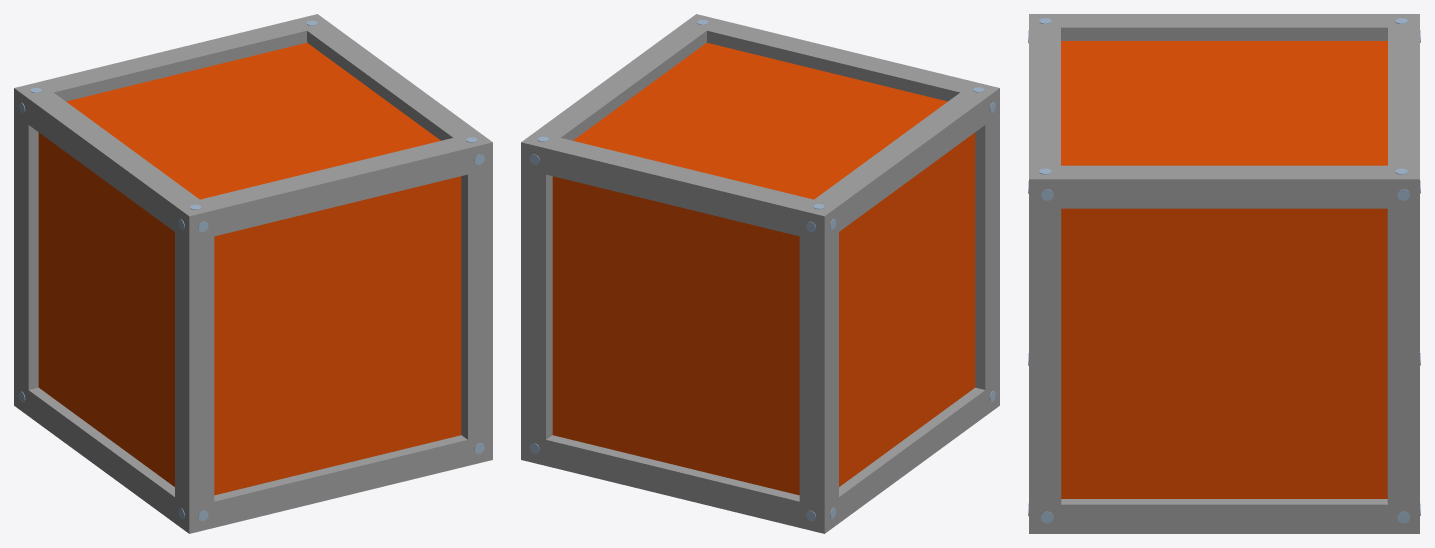
File: metalni obod kutija final.fbx
3 views of the same model, side by side, from view 1: azimuth 30°, elevation 25°; view 2: azimuth 150°, elevation 25°; view 3: azimuth 270°, elevation 25° (orthographic). The views are drawn at different scales.
Parts seen in each view (by area): view 1: Cube.232; view 2: Cube.232; view 3: Cube.232.
Boxes of the visible parts, x1,y1,x2,y2 form: Cube.232: (14,14,492,533); Cube.232: (521,14,999,533); Cube.232: (1028,14,1420,533).
Bounding box in the file's own units: 201 × 200 × 201.
